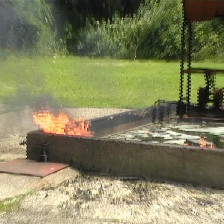fire_h: (31, 111, 93, 137)
fire_l: (200, 137, 213, 148)
